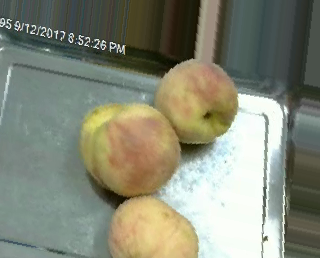Peach: (79, 103, 180, 195), (156, 59, 236, 147), (108, 196, 198, 257)
